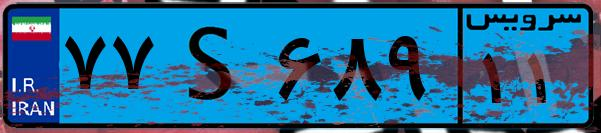1: (475, 38, 525, 113), (525, 38, 570, 115)
6: (270, 28, 330, 110)
7: (57, 26, 110, 100), (110, 28, 158, 98)
8: (330, 28, 385, 110)
9: (385, 28, 445, 110)
S: (158, 12, 270, 120)
